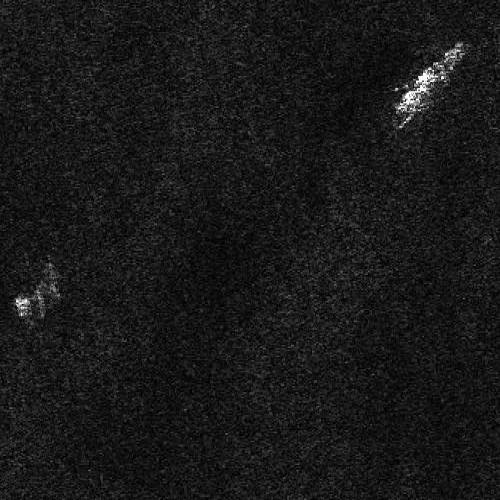ship: (394, 42, 474, 115), (15, 293, 29, 317)
